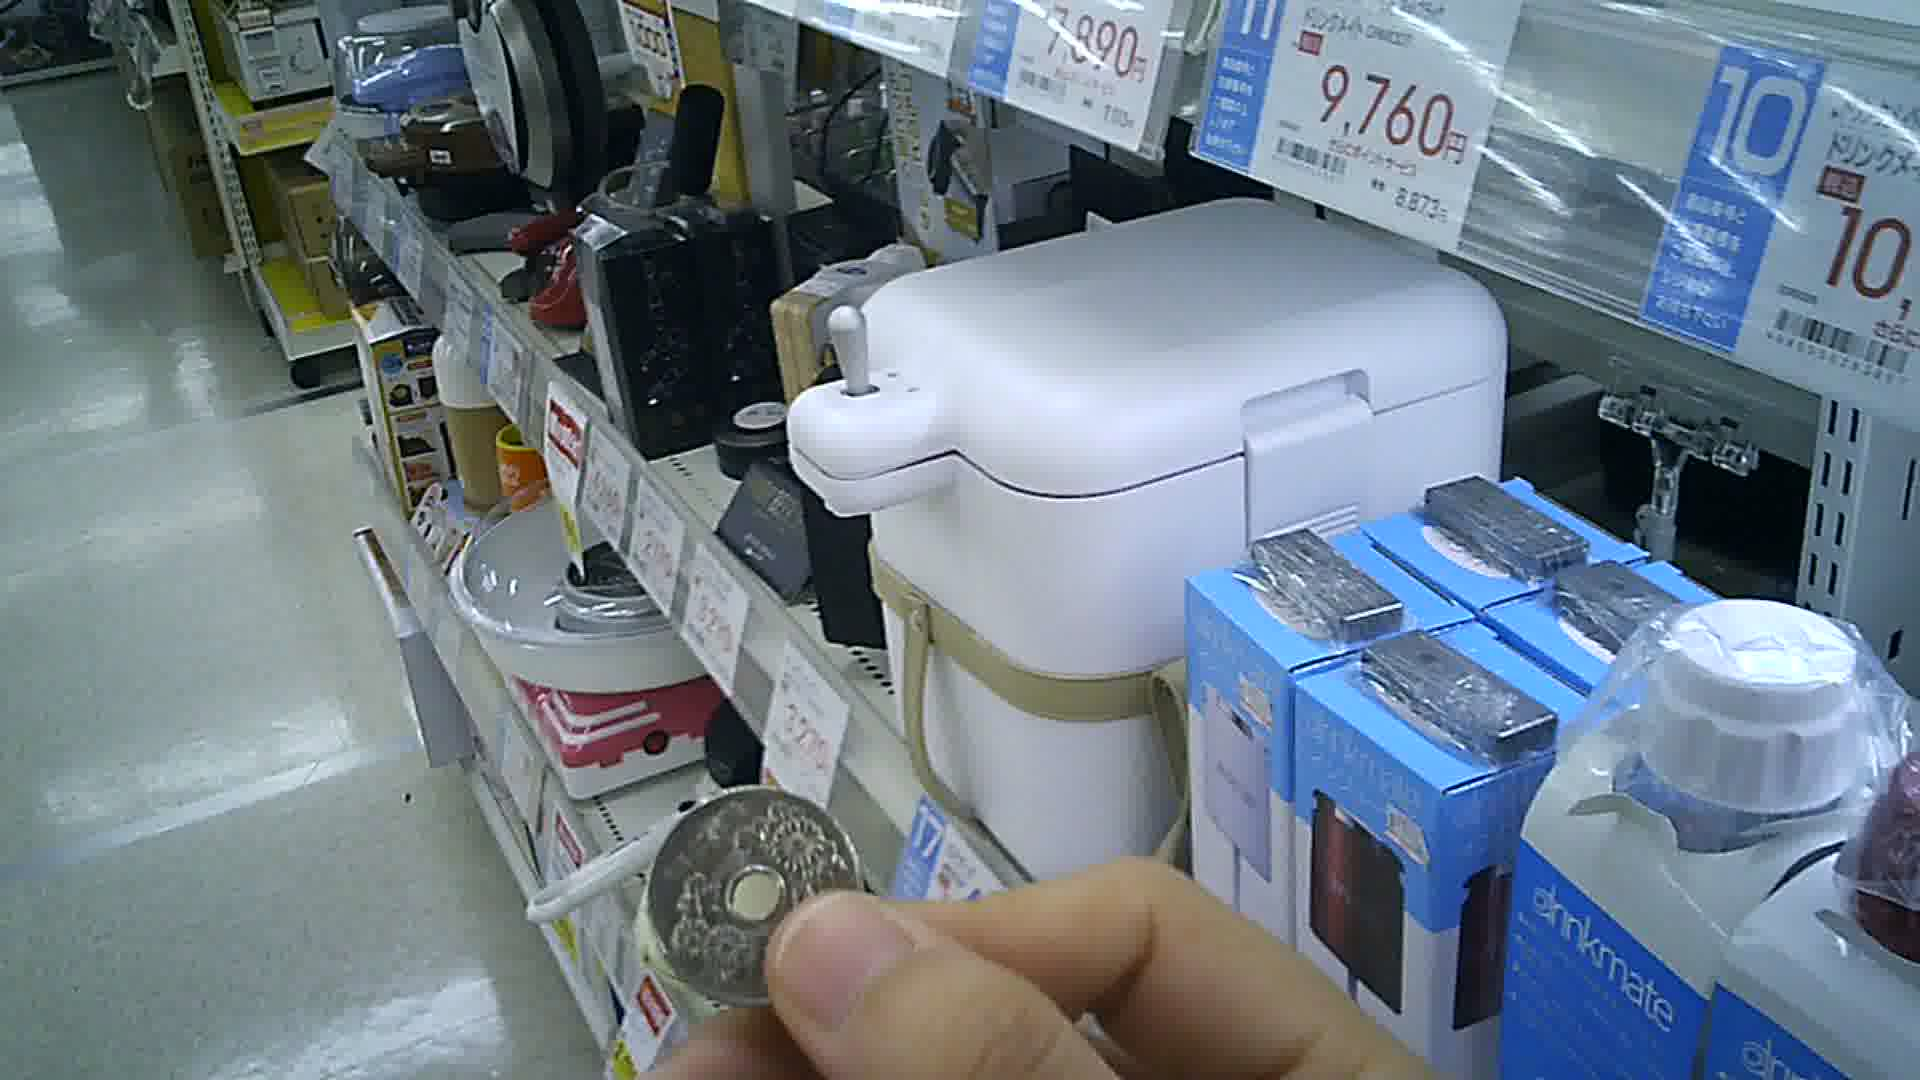50 Yen: (638, 785, 868, 1021)
